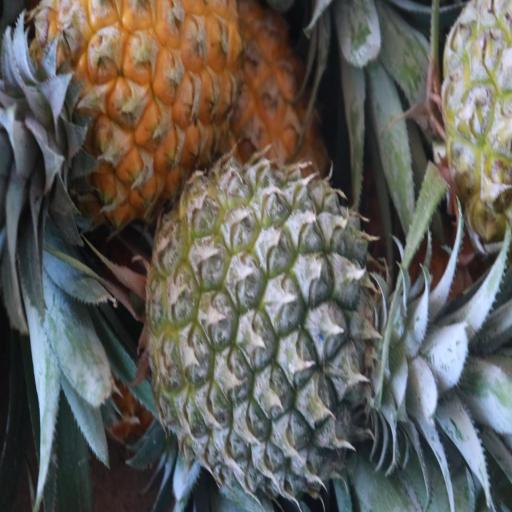Pineapple - v8 v1: (39, 0, 240, 220)
